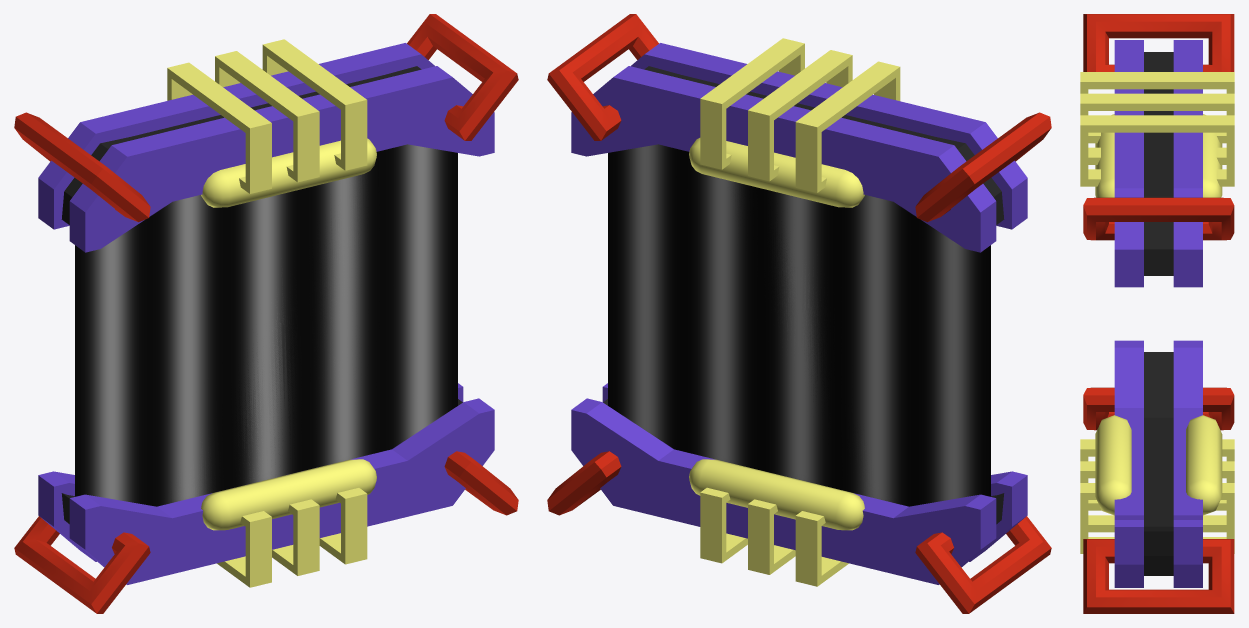
The model's file is SpeedDown.FBX.
3 views of the same model, side by side, from view 1: azimuth 30°, elevation 25°; view 2: azimuth 150°, elevation 25°; view 3: azimuth 270°, elevation 25° (orthographic). The views are drawn at different scales.
Parts seen in each view (by area): view 1: SpeedDownGrill, SpeedDownBox; view 2: SpeedDownGrill, SpeedDownBox; view 3: SpeedDownBox.
Boxes of the visible parts, bbox=[...] form: SpeedDownGrill: bbox=[75, 144, 457, 506]; SpeedDownBox: bbox=[14, 14, 518, 613]; SpeedDownGrill: bbox=[608, 144, 990, 506]; SpeedDownBox: bbox=[547, 14, 1051, 613]; SpeedDownBox: bbox=[1080, 14, 1234, 613].
Size of the model in its own units: 232 by 77.9 by 239.
